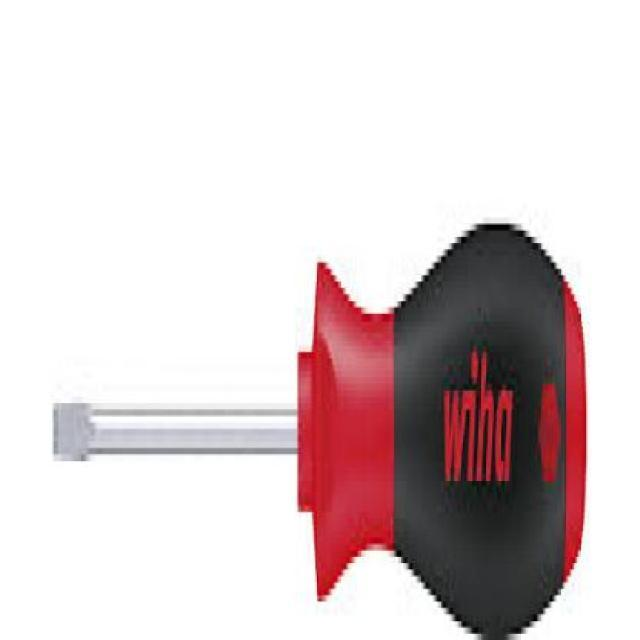screwdriver: (51, 198, 592, 628)
